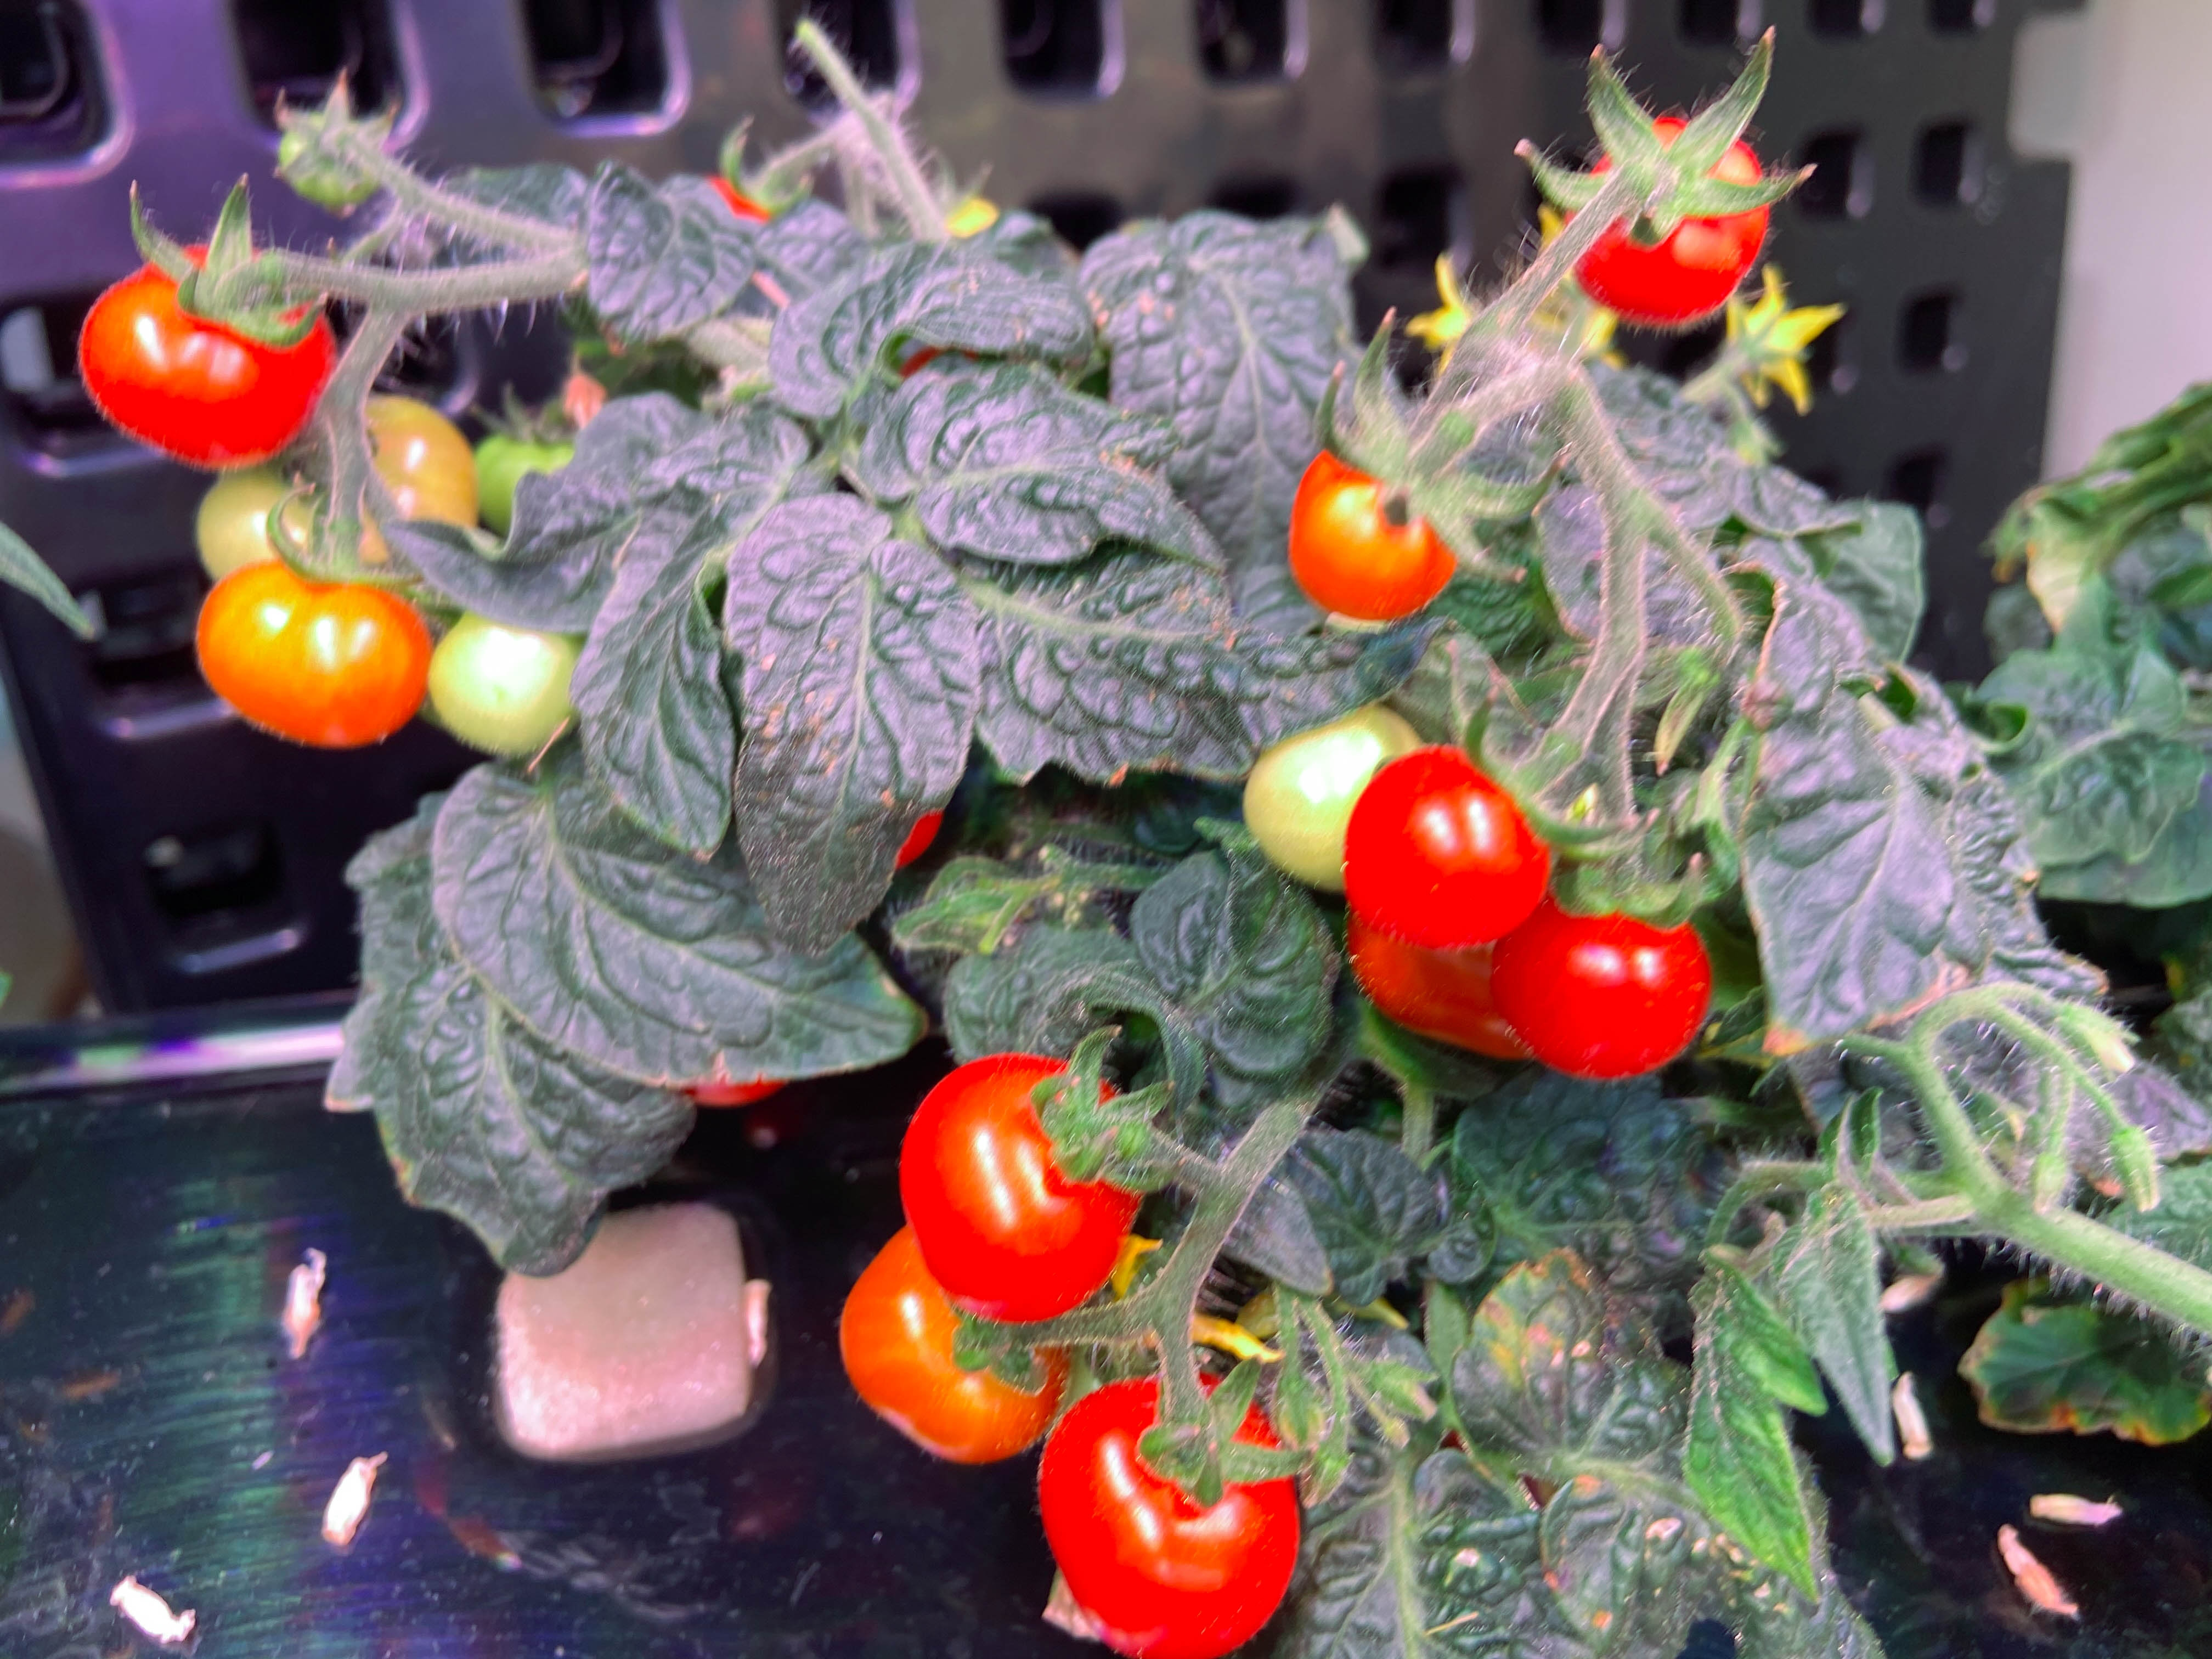green: (1240, 713, 1404, 892), (425, 599, 590, 756), (188, 465, 327, 587), (470, 422, 578, 530)
red: (1035, 1351, 1306, 1656), (900, 1042, 1137, 1312), (75, 242, 336, 467), (833, 1223, 1054, 1457), (199, 549, 434, 751), (1345, 744, 1555, 950), (1491, 885, 1712, 1077), (1564, 120, 1766, 322), (1284, 432, 1460, 626), (1352, 913, 1526, 1060), (838, 753, 991, 915), (639, 162, 820, 275), (334, 390, 481, 528), (873, 300, 1050, 401), (651, 1035, 833, 1127)
